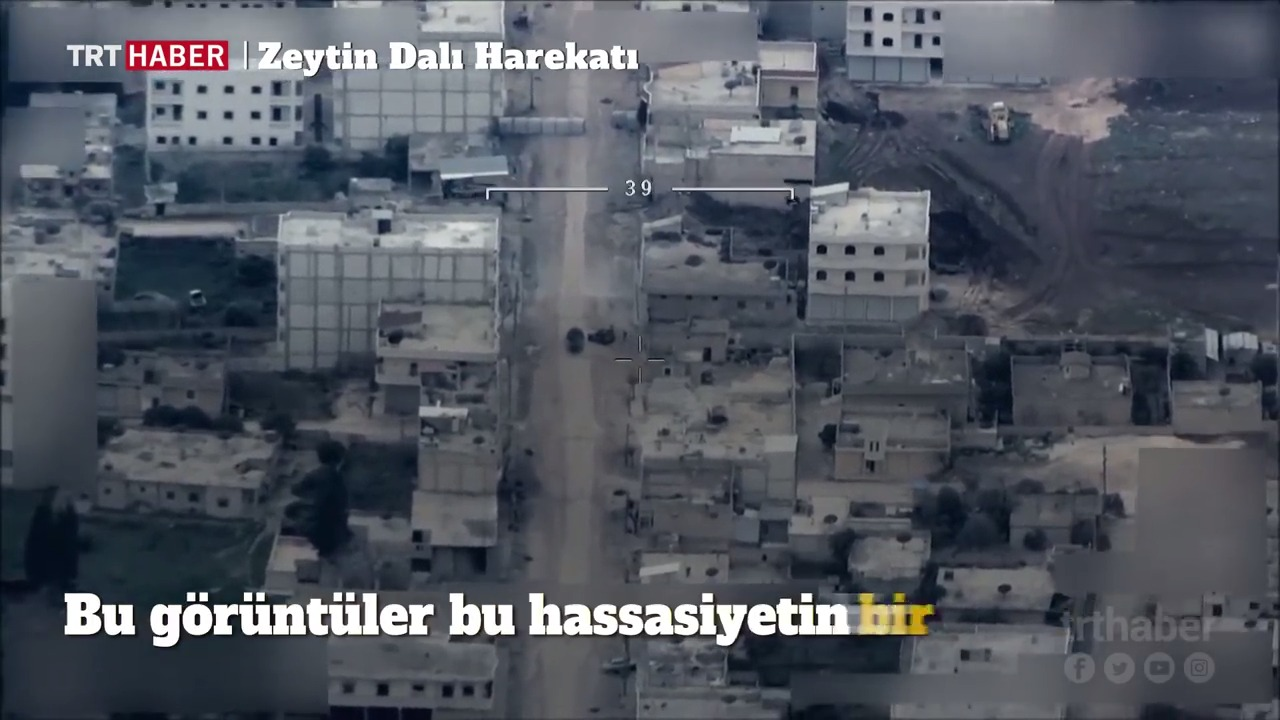arac: (980, 94, 1017, 137), (591, 311, 622, 356), (559, 319, 589, 353), (601, 653, 636, 673), (186, 283, 208, 311)
bina: (270, 198, 503, 365), (800, 182, 948, 325), (630, 216, 800, 330), (89, 425, 297, 516), (404, 411, 509, 561), (634, 117, 842, 191), (320, 640, 513, 715), (824, 398, 957, 486), (999, 352, 1140, 429)
insan: (620, 327, 629, 343)
